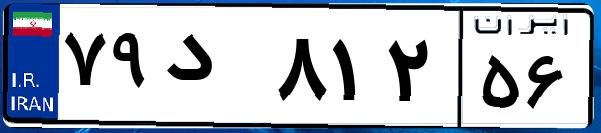1: (330, 28, 385, 110)
2: (385, 28, 445, 110)
5: (475, 38, 525, 113)
6: (525, 38, 570, 115)
7: (57, 26, 110, 100)
8: (270, 28, 330, 110)
9: (110, 28, 158, 98)
د: (158, 20, 270, 120)
